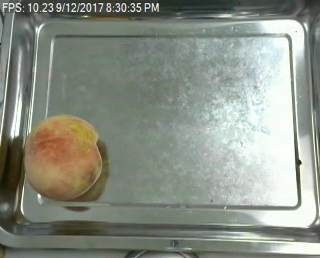Peach: (23, 113, 104, 200)
